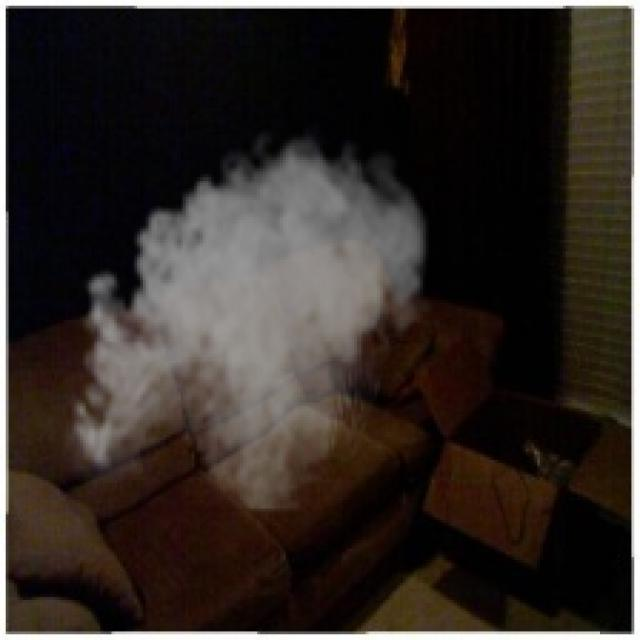Smoke: (60, 122, 437, 514)
